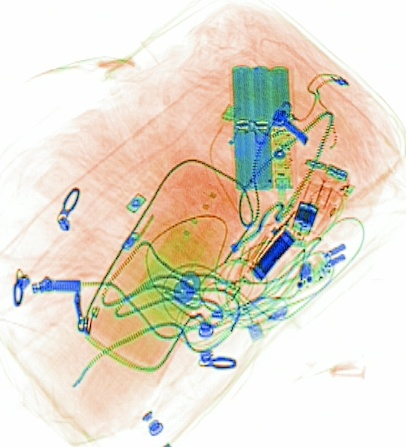powerbank: (228, 63, 299, 193)
